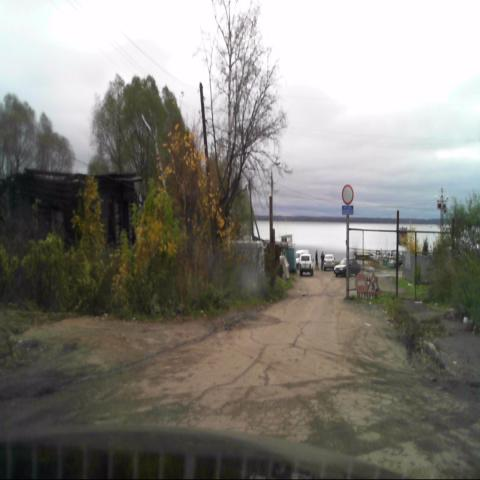3_2: (342, 184, 353, 205)
